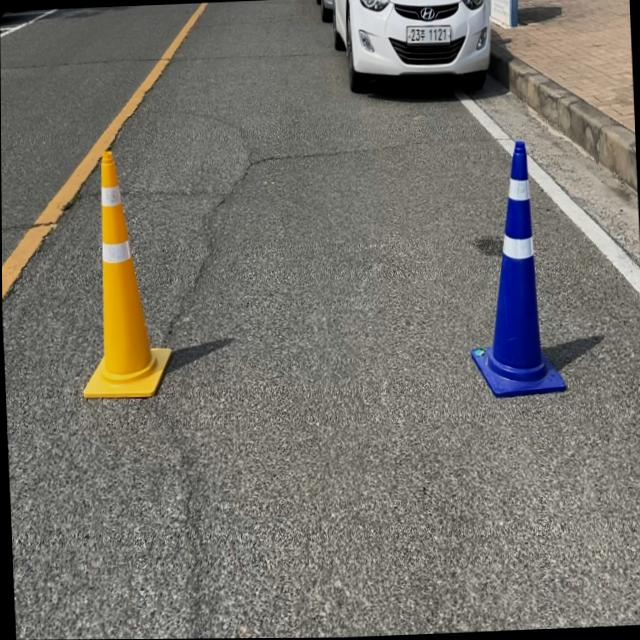b_rub: (471, 140, 566, 397)
y_rub: (82, 150, 170, 397)
